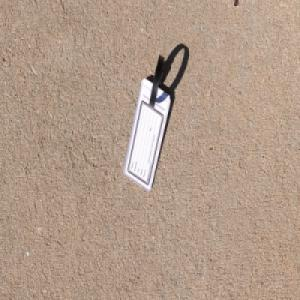LuggageTag: (122, 52, 171, 192)
